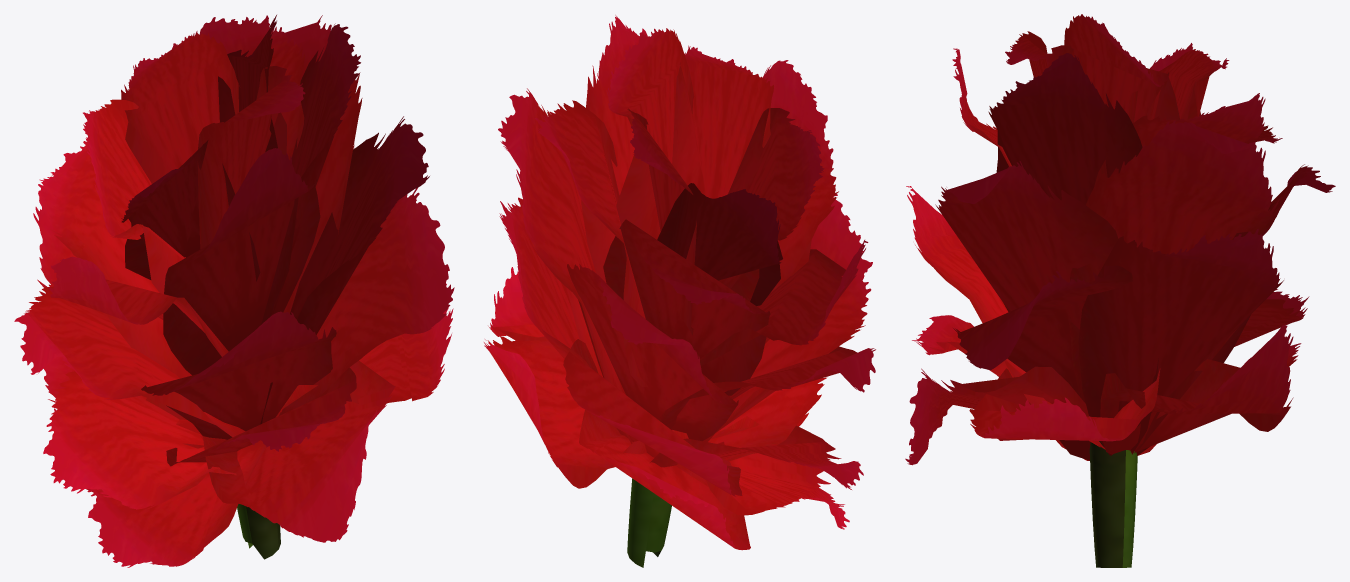
The model's file is carnation.glb.
3 views of the same model, side by side, from view 1: azimuth 30°, elevation 25°; view 2: azimuth 150°, elevation 25°; view 3: azimuth 270°, elevation 25° (orthographic). The views are drawn at different scales.
Parts seen in each view (by area): view 1: Object_12, Object_4; view 2: Object_12, Object_4; view 3: Object_12, Object_4.
Boxes of the visible parts, x1,y1,x2,y2 form: Object_12: (14, 15, 454, 567); Object_4: (237, 504, 280, 559); Object_12: (484, 15, 875, 550); Object_4: (627, 478, 671, 567); Object_12: (905, 14, 1335, 465); Object_4: (1089, 441, 1137, 567).
Bounding box in the file's own units: 0.2857 × 0.3741 × 0.2636.
Materials: 2 (2 with a texture image).
